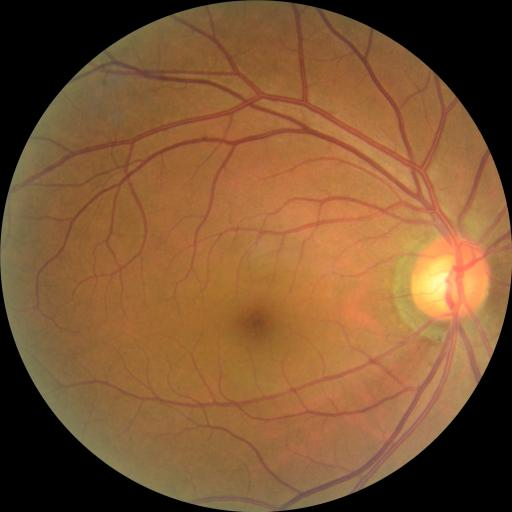Optic Cup: (421, 255, 473, 308)
Optic Disc: (412, 235, 490, 321)
